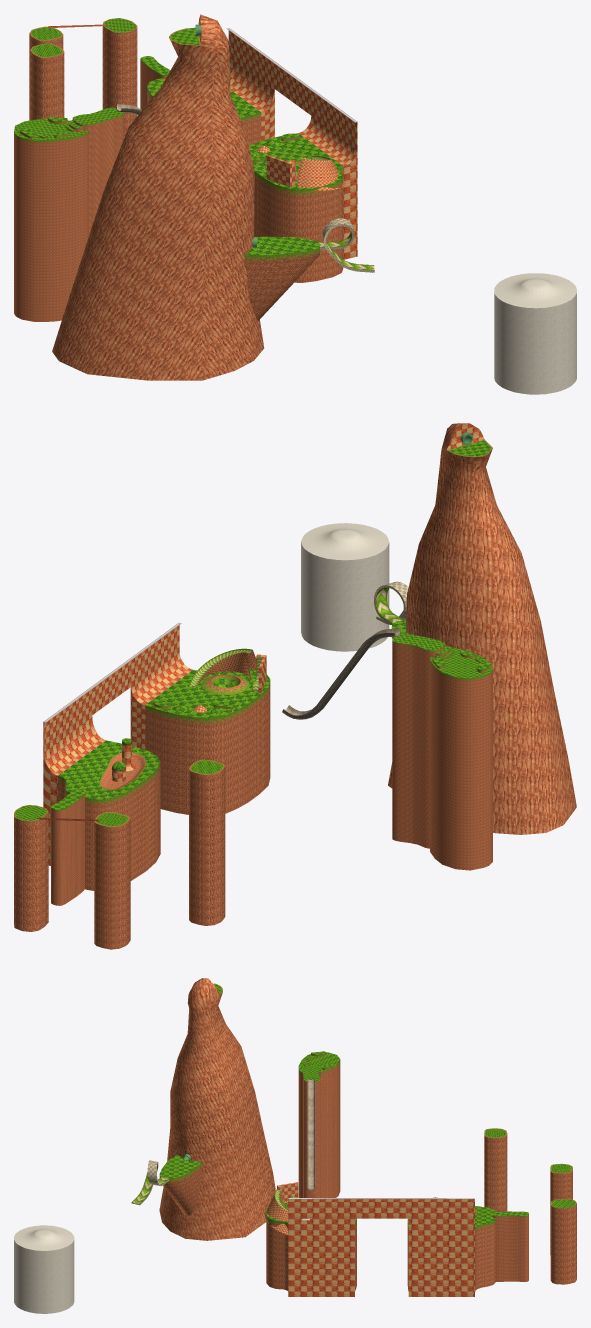
File: Tutorial12.obj
3 views of the same model, one above another, from view 1: azimuth 30°, elevation 25°; view 2: azimuth 150°, elevation 25°; view 3: azimuth 270°, elevation 25° (orthographic). The views are drawn at different scales.
Size of the model in its own units: 6526 by 5524 by 11570.
13 materials, 13 textured.
